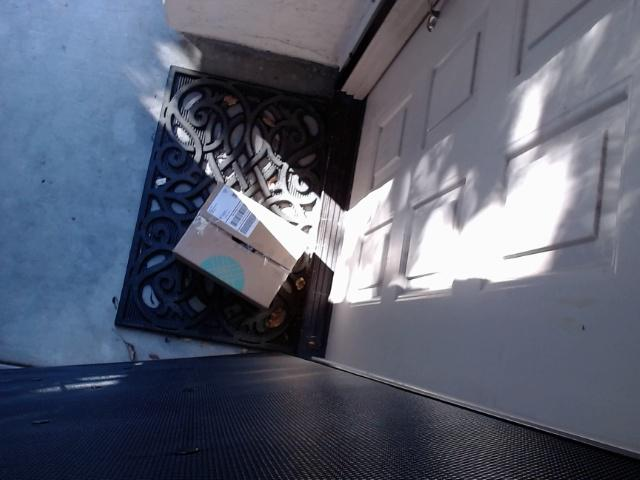box: (171, 182, 311, 308)
